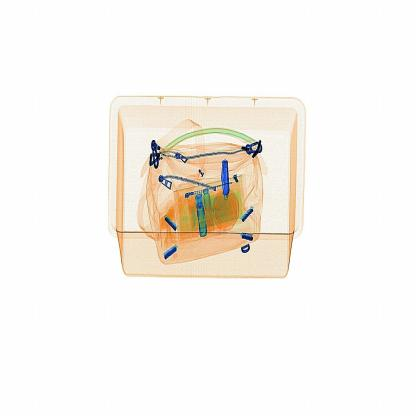knife: (214, 154, 234, 208)
